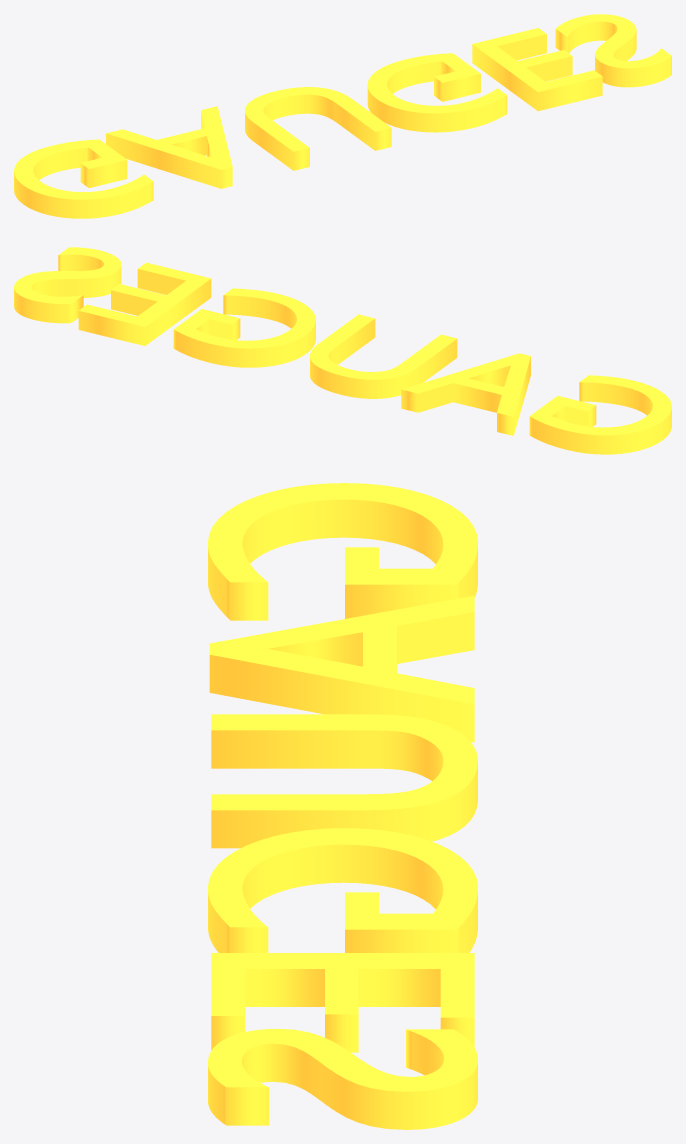
Rendered from GAUGES.glb.
3 views of the same model, one above another, from view 1: azimuth 30°, elevation 25°; view 2: azimuth 150°, elevation 25°; view 3: azimuth 270°, elevation 25° (orthographic). The views are drawn at different scales.
Parts seen in each view (by area): view 1: LABEL_GAUGES; view 2: LABEL_GAUGES; view 3: LABEL_GAUGES.
Part boxes in pixels (bbox=[...]): LABEL_GAUGES: bbox=[14, 14, 671, 218]; LABEL_GAUGES: bbox=[14, 247, 671, 454]; LABEL_GAUGES: bbox=[208, 483, 477, 1129].
Size of the model in its own units: 0.2052 by 0.006 by 0.0385.
